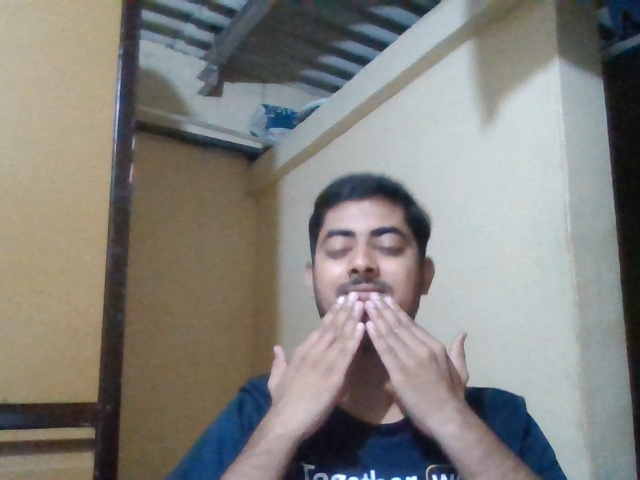ThankYou: (266, 291, 469, 429)
